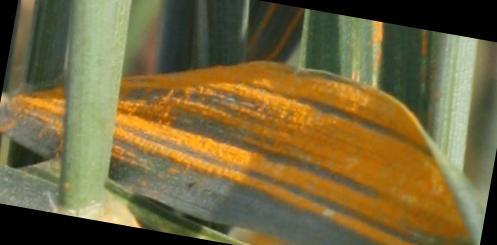Wheat: (122, 80, 315, 200), (320, 114, 405, 245), (409, 163, 435, 245), (26, 94, 64, 136), (319, 85, 362, 109)
